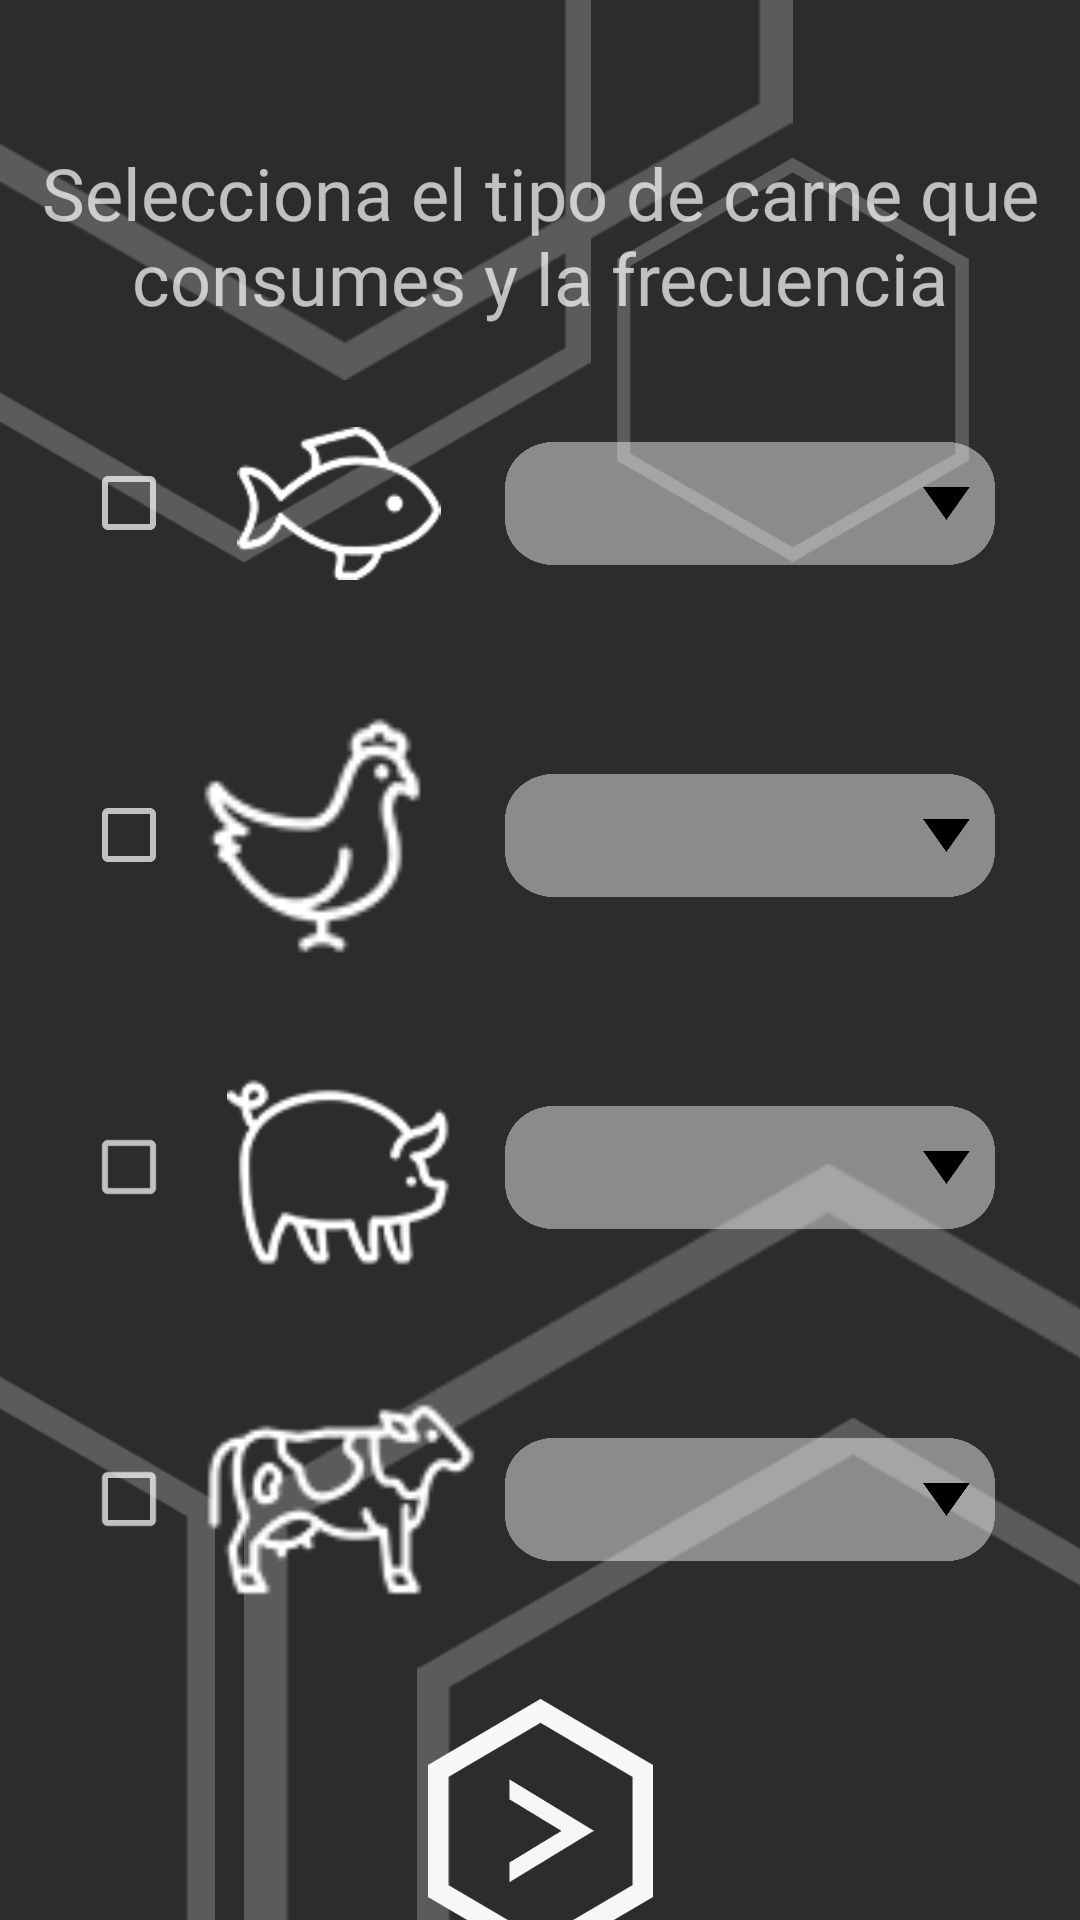

Named icons in this screenshot (1080 × 1920) and their centers, [x,y]:
cerdo: [338,1172]
pez: [327,503]
pollo: [312,835]
ternera: [339,1499]
